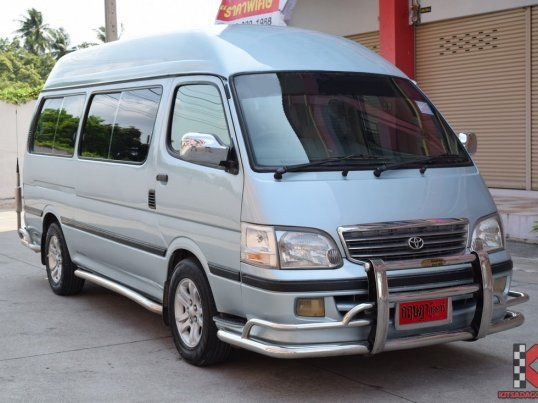van: (18, 24, 513, 364)
